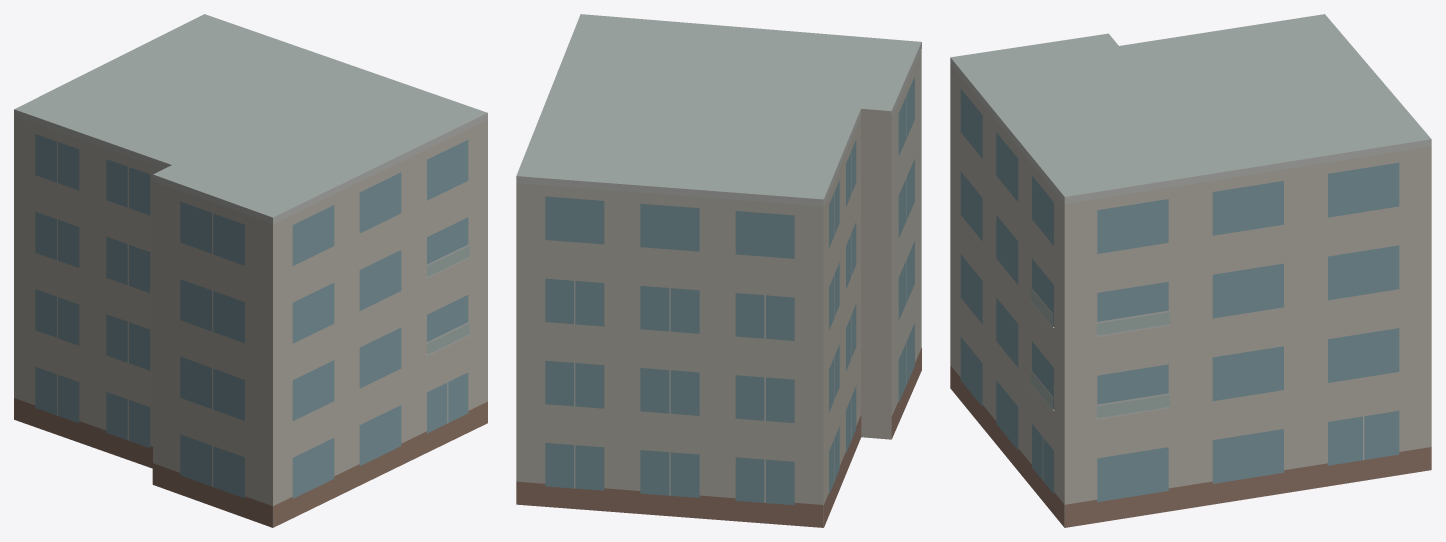
The model's file is survey-upis-32852248.glb.
3 views of the same model, side by side, from view 1: azimuth 30°, elevation 25°; view 2: azimuth 150°, elevation 25°; view 3: azimuth 270°, elevation 25° (orthographic). The views are drawn at different scales.
Parts seen in each view (by area): view 1: survey-upis-32852248.tmp; view 2: survey-upis-32852248.tmp; view 3: survey-upis-32852248.tmp.
Part boxes in pixels (box(x1,y1,x2,y2)): survey-upis-32852248.tmp: box(14, 14, 487, 527); survey-upis-32852248.tmp: box(516, 14, 921, 527); survey-upis-32852248.tmp: box(950, 14, 1431, 527).
Size of the model in its own units: 13.65 by 11.5 by 15.17.
